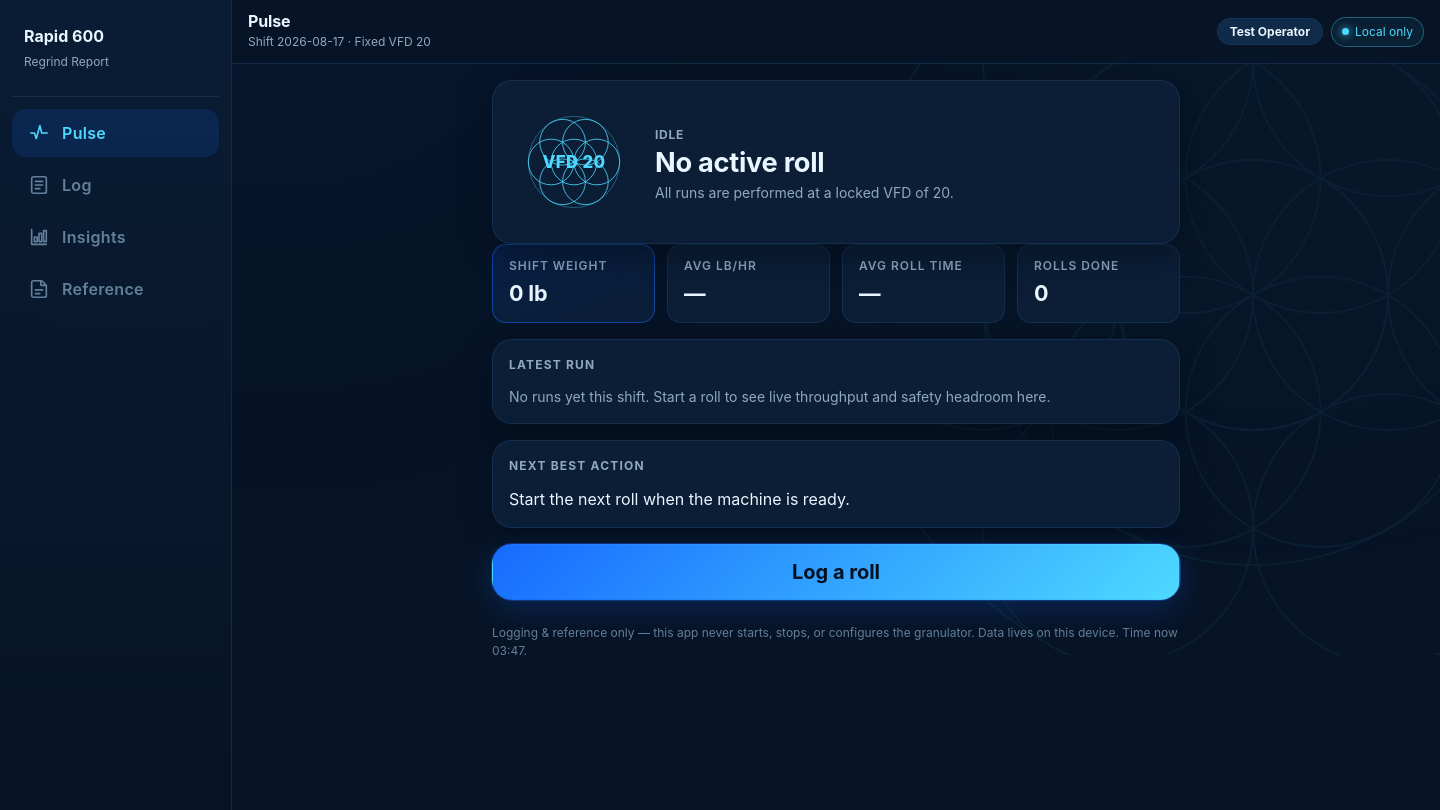
Scenario: App workflow › builds and opens a shareable PDF from Reference
Click the button "Reference": (116, 289) x1=12 y1=265 x2=219 y2=313
(page scrolled)
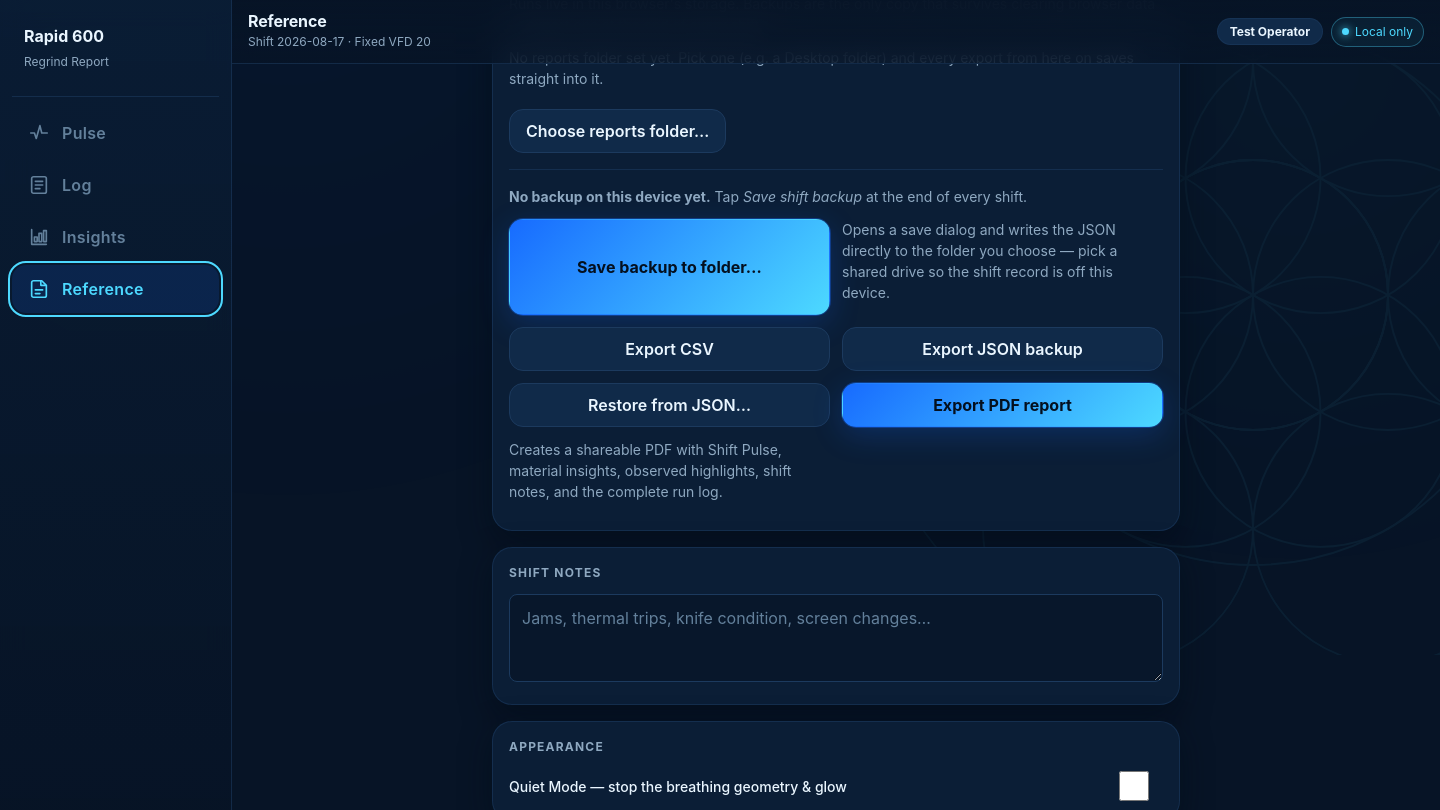
Click the button "Export PDF report": (1002, 405) x1=842 y1=383 x2=1163 y2=427
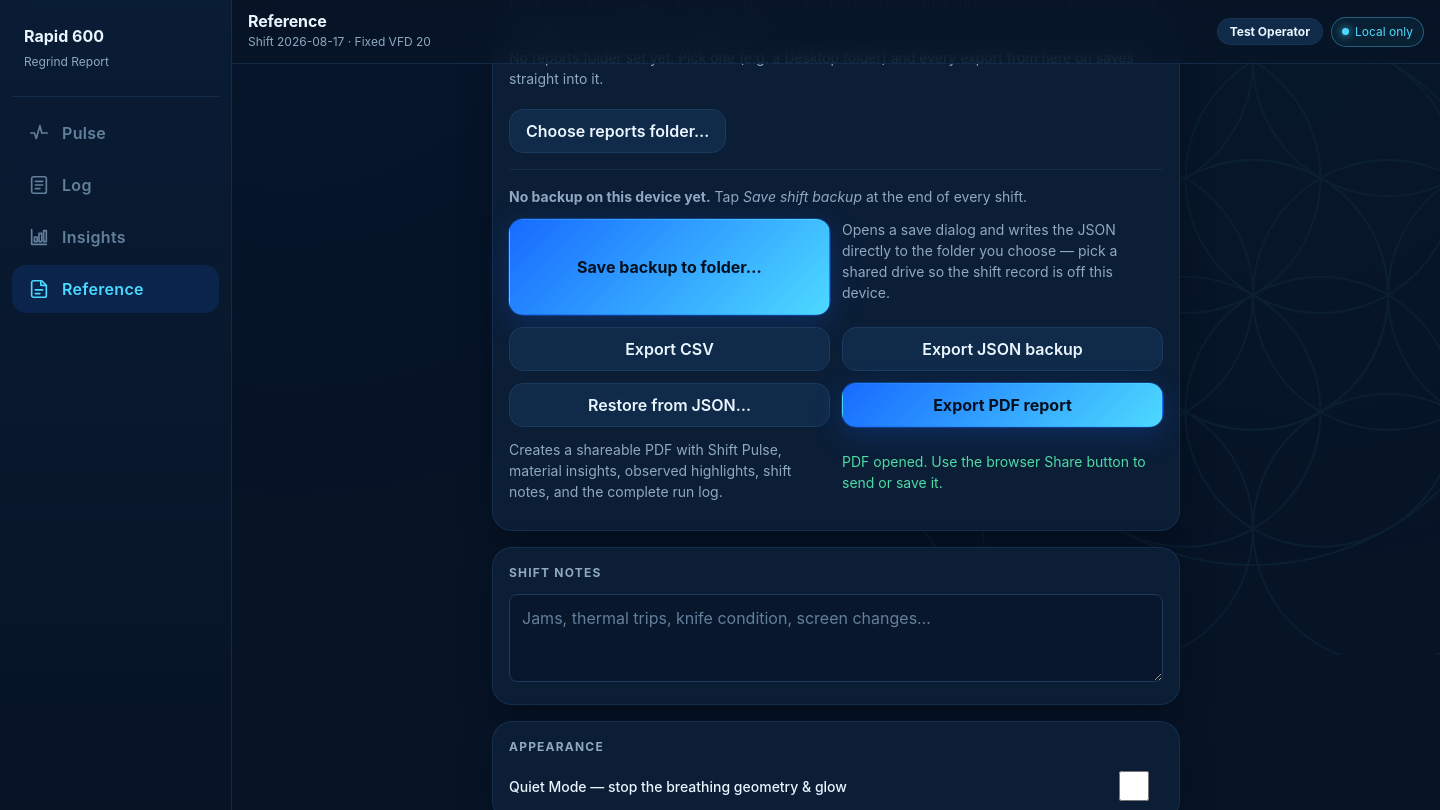
Check: the message shows "PDF opened", box x1=842 y1=453 x2=1146 y2=491
